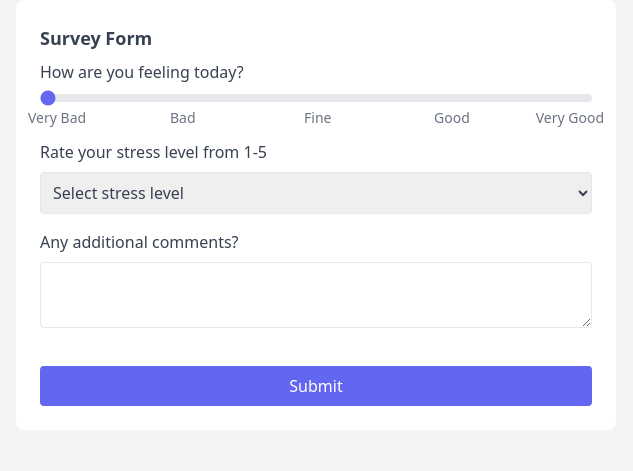
Test case: SurveyForm Component › should show error if any field is empty upon submission
Click the button "Submit": x=316, y=386 [40,366,592,406]
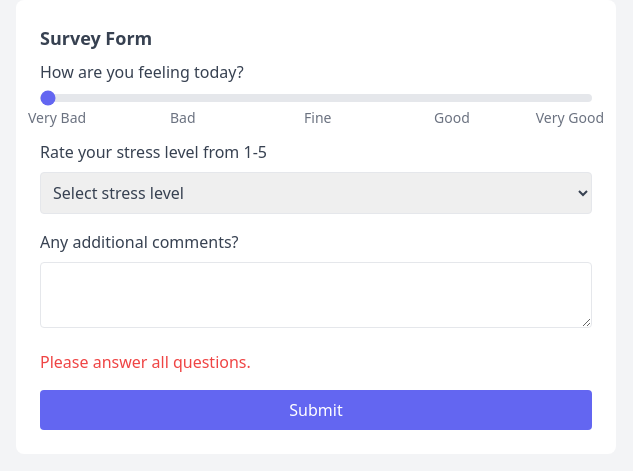
Check: the text "Please answer all questions." is shown, box [40,351,251,373]
